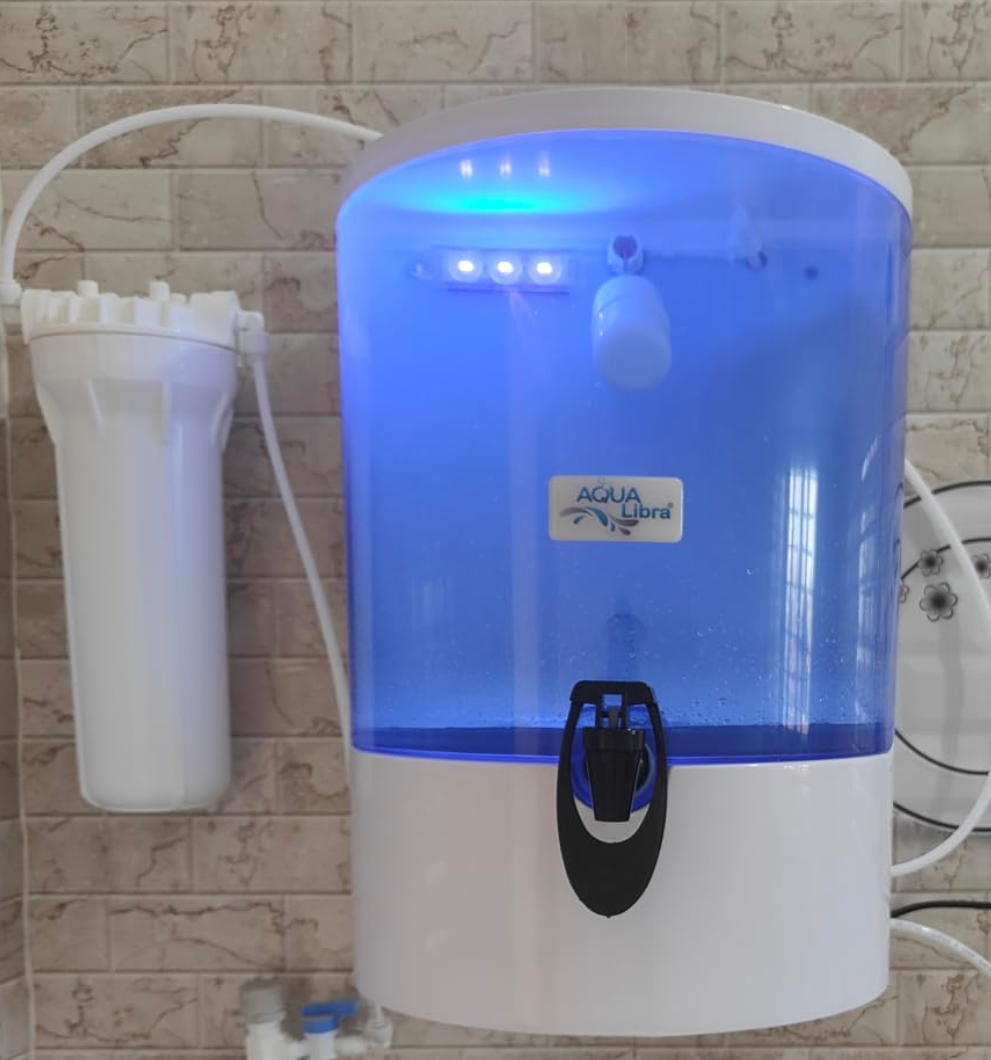water purifier: (309, 85, 948, 1041)
